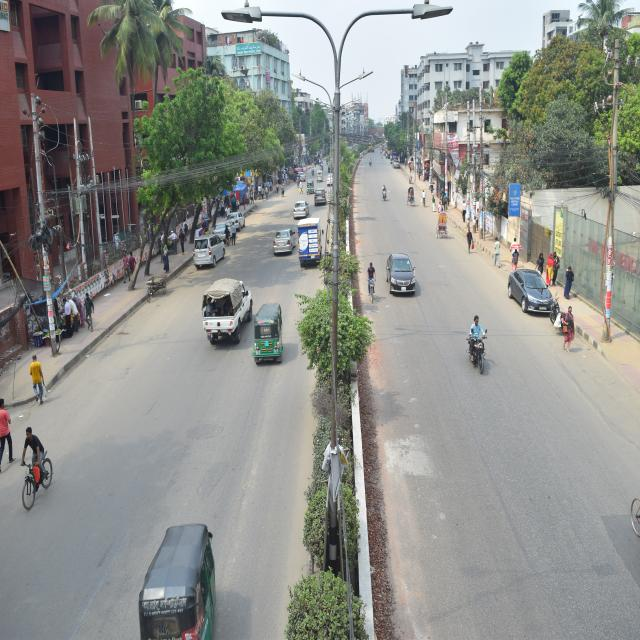car: (503, 271, 553, 315), (274, 222, 292, 258), (294, 194, 306, 219), (222, 217, 238, 230), (232, 208, 243, 223)
microbus: (191, 230, 234, 270)
motorbike: (467, 312, 488, 369), (545, 296, 573, 338), (381, 184, 390, 202)
pickup-van: (202, 280, 253, 346), (298, 218, 322, 266)
